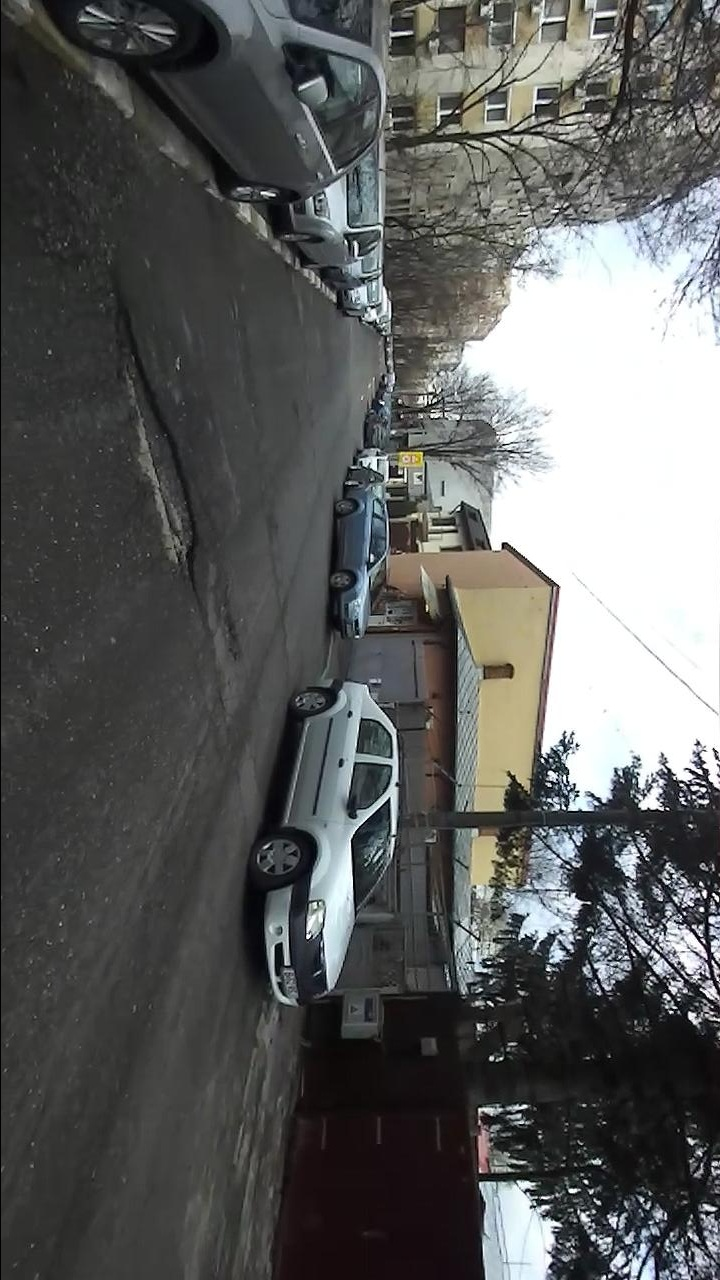pothole: (97, 273, 202, 605), (215, 589, 246, 671)
